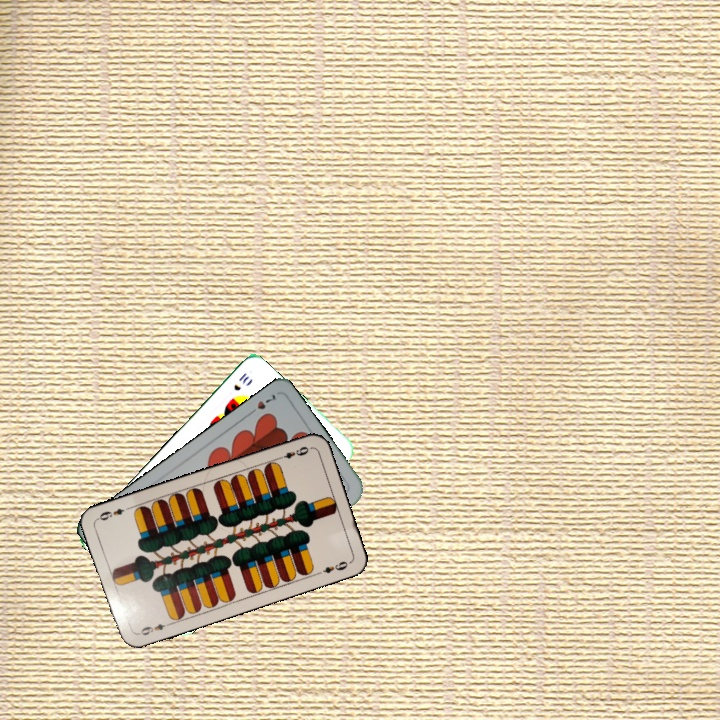E9: (273, 442, 313, 462), (133, 619, 173, 638)
H7: (244, 390, 278, 418)
S10: (230, 368, 252, 393)
